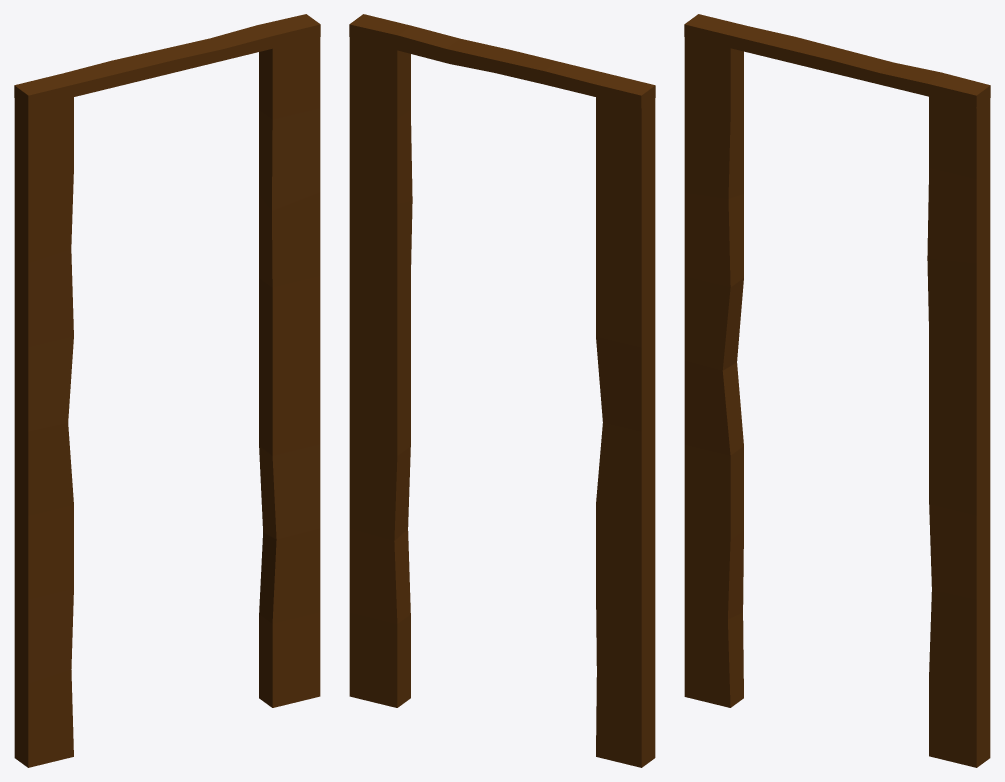
The model's file is Door1.fbx.
3 views of the same model, side by side, from view 1: azimuth 30°, elevation 25°; view 2: azimuth 150°, elevation 25°; view 3: azimuth 330°, elevation 25° (orthographic).
Parts seen in each view (by area): view 1: Cube.011; view 2: Cube.011; view 3: Cube.011.
Boxes of the visible parts, bbox=[...] form: Cube.011: bbox=[14, 14, 320, 767]; Cube.011: bbox=[349, 14, 655, 767]; Cube.011: bbox=[684, 14, 990, 767].
Size of the model in its own units: 100 by 220 by 8.79.
